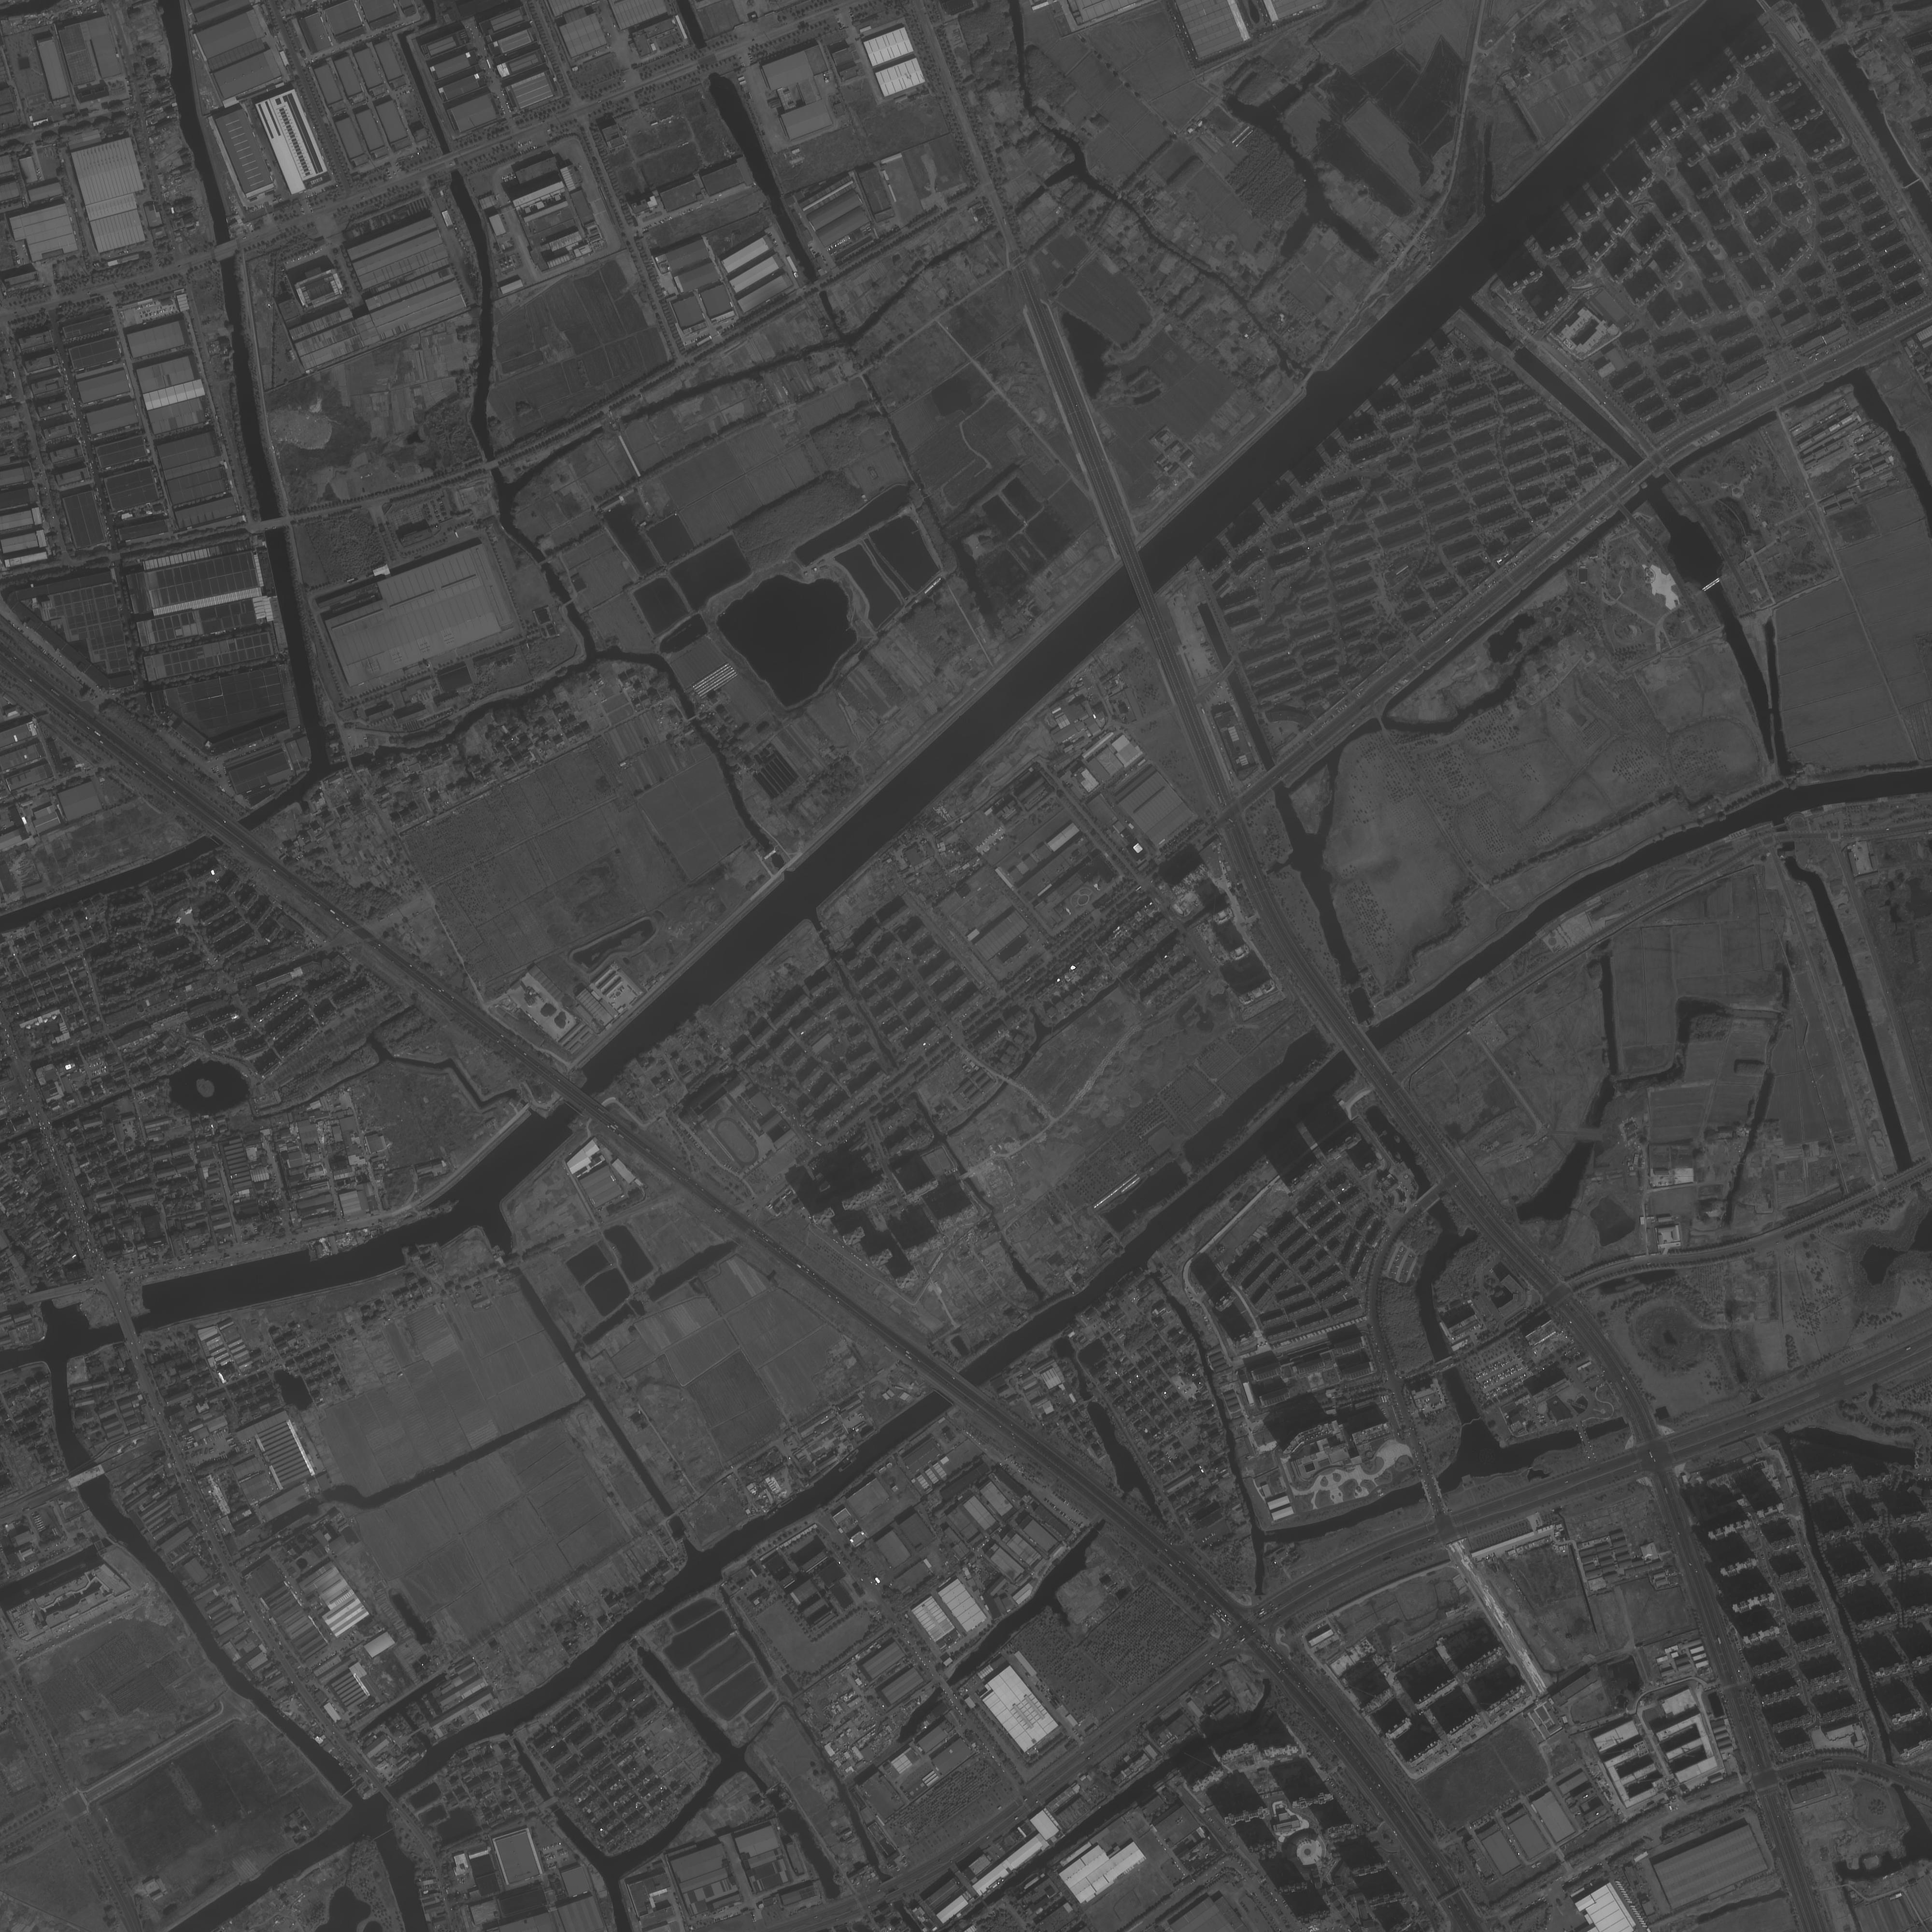ship: (777, 1493, 798, 1509), (763, 1506, 780, 1520)
